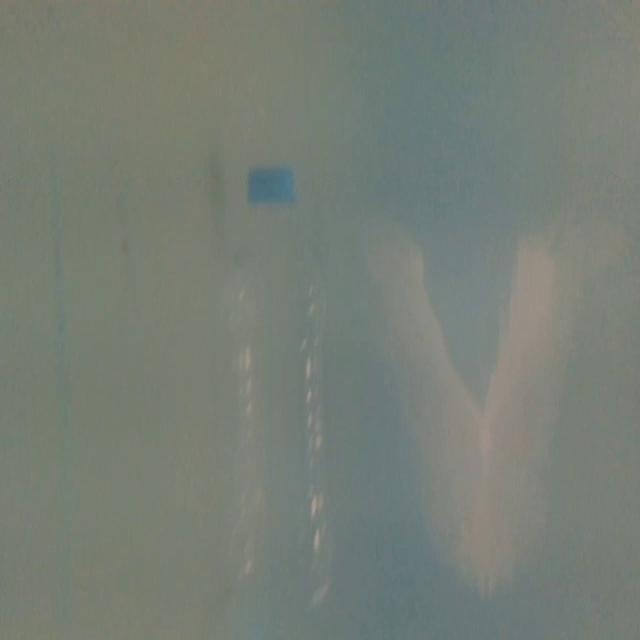plastic bags: (348, 197, 613, 584)
plastic bottle: (212, 160, 342, 617)
